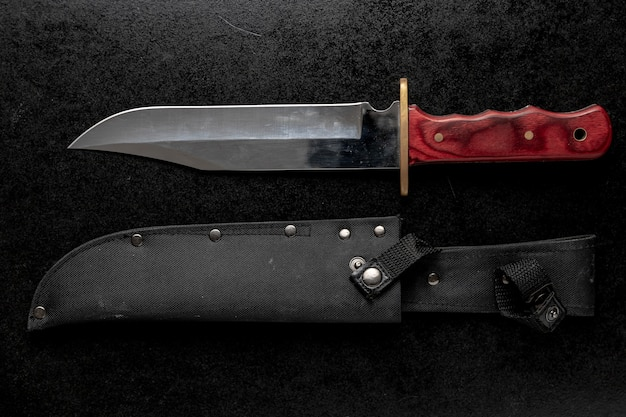knife: (69, 76, 615, 196)
